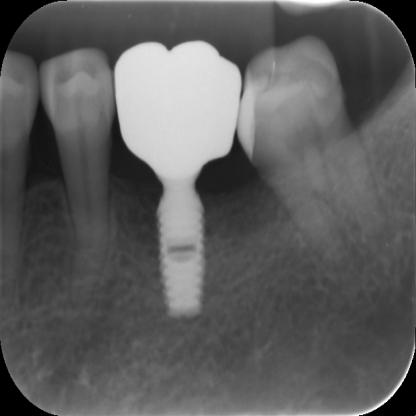Bicon: (148, 193, 213, 323)
